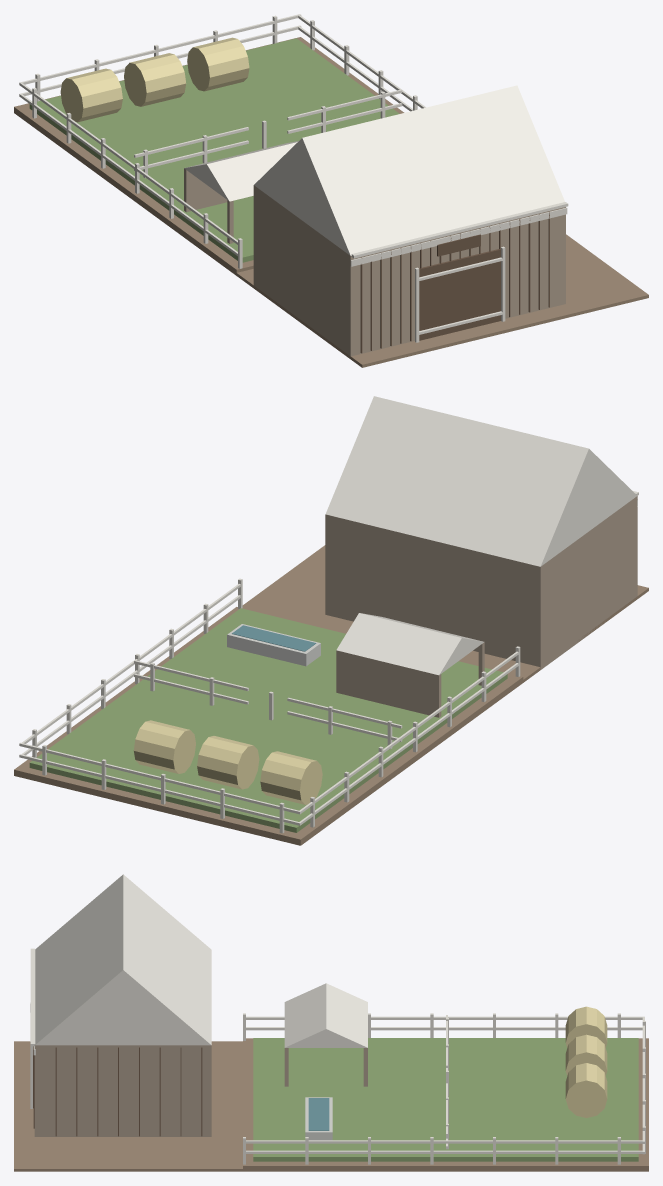
File: farm_2x4_c.glb
3 renders of one model, top to bottom at view 1: azimuth 30°, elevation 25°; view 2: azimuth 150°, elevation 25°; view 3: azimuth 270°, elevation 25°, orthographic. The views are drawn at different scales.
Parts seen in each view (by area): view 1: farm_2x4_c_yard; view 2: farm_2x4_c_yard; view 3: farm_2x4_c_yard.
Part boxes in pixels (x1,y1,x2,y2): farm_2x4_c_yard: [14, 14, 648, 367]; farm_2x4_c_yard: [14, 396, 648, 845]; farm_2x4_c_yard: [14, 874, 648, 1171].
Bounding box in the file's own units: 14.5 × 9 × 30.5.
